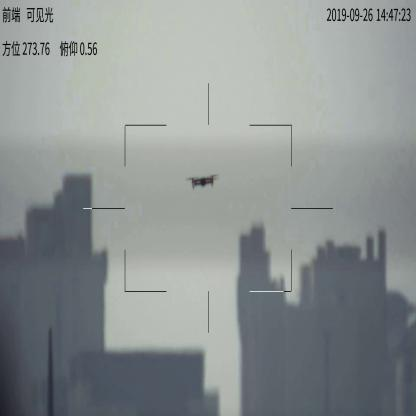uav: (186, 169, 219, 187)
